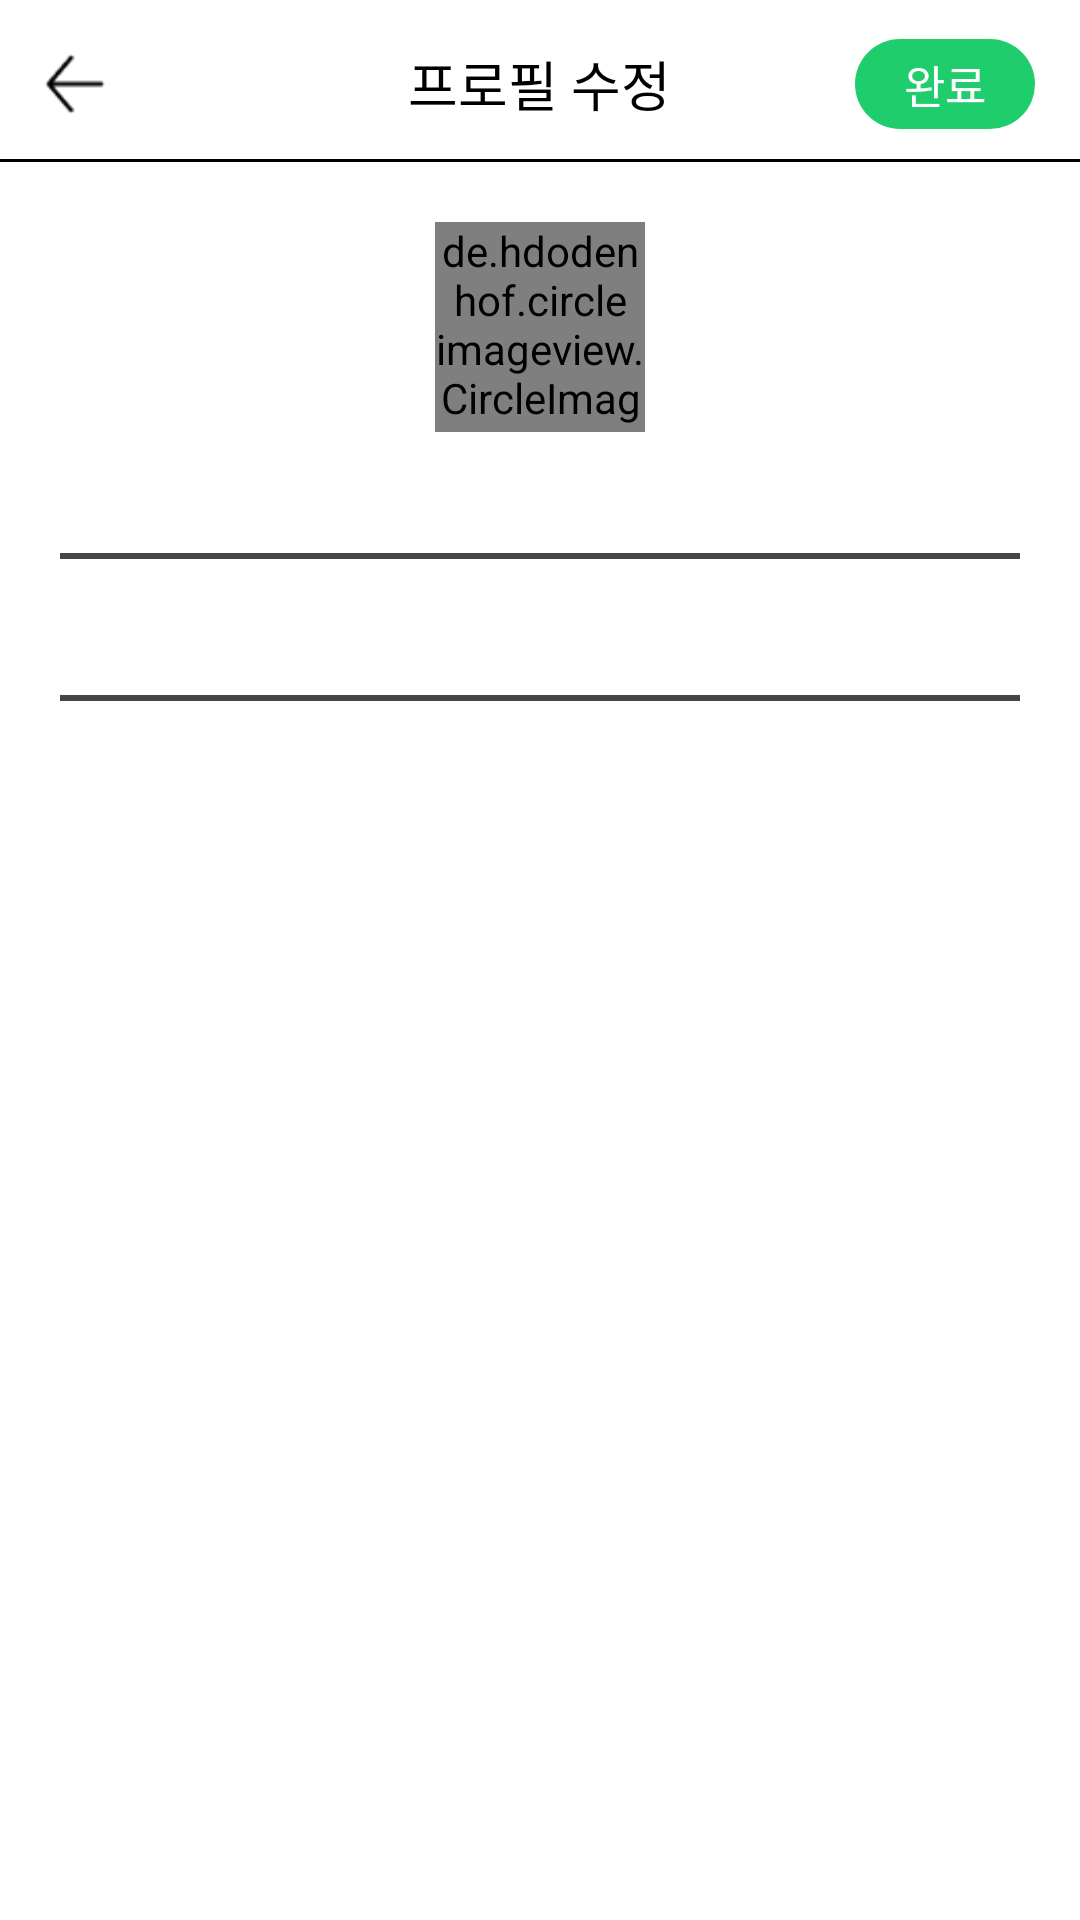

Point at icon controls on the screen. Image size 1080*1920, points as (x=x, y=y).
back: (x=75, y=83)
